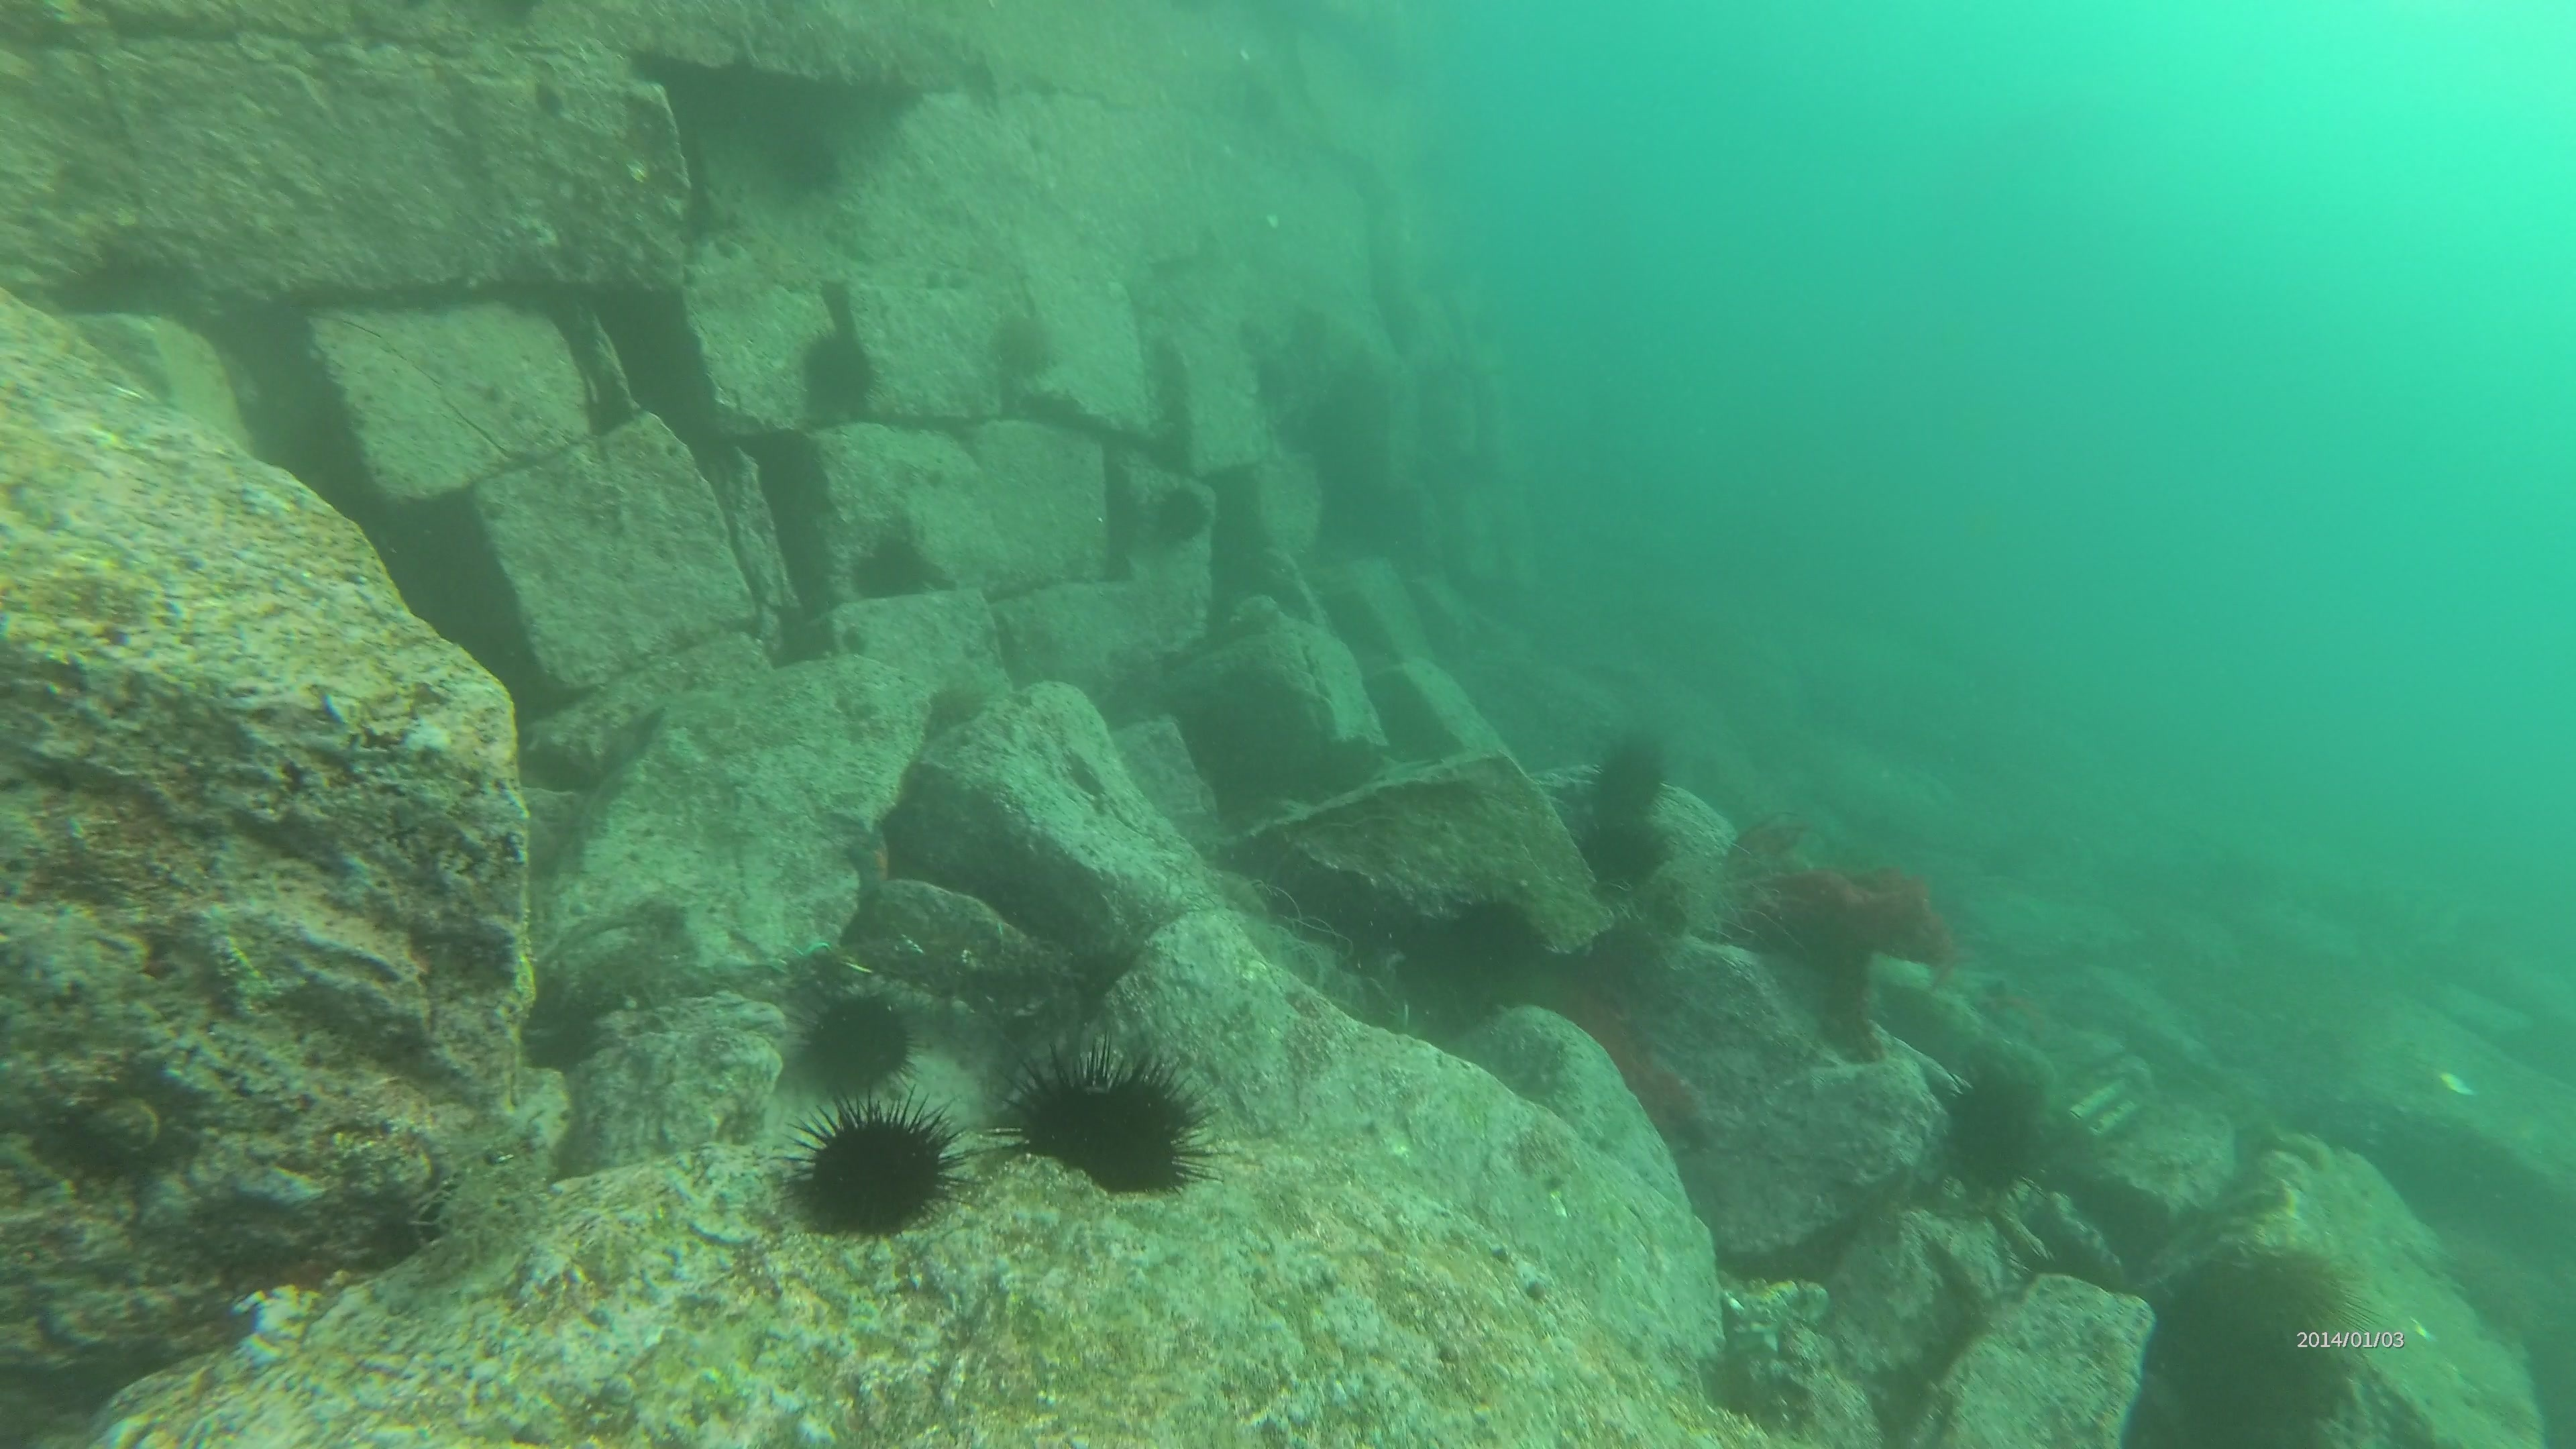echinus: (998, 1042, 1212, 1203), (780, 1092, 962, 1242), (2217, 1233, 2360, 1350), (1932, 1060, 2051, 1200), (791, 982, 922, 1100), (1422, 886, 1546, 1003), (791, 322, 885, 428), (755, 117, 851, 205), (1583, 727, 1675, 812), (1576, 814, 1668, 897), (987, 313, 1062, 377), (1159, 485, 1210, 540)
starfish: (833, 812, 899, 904)
